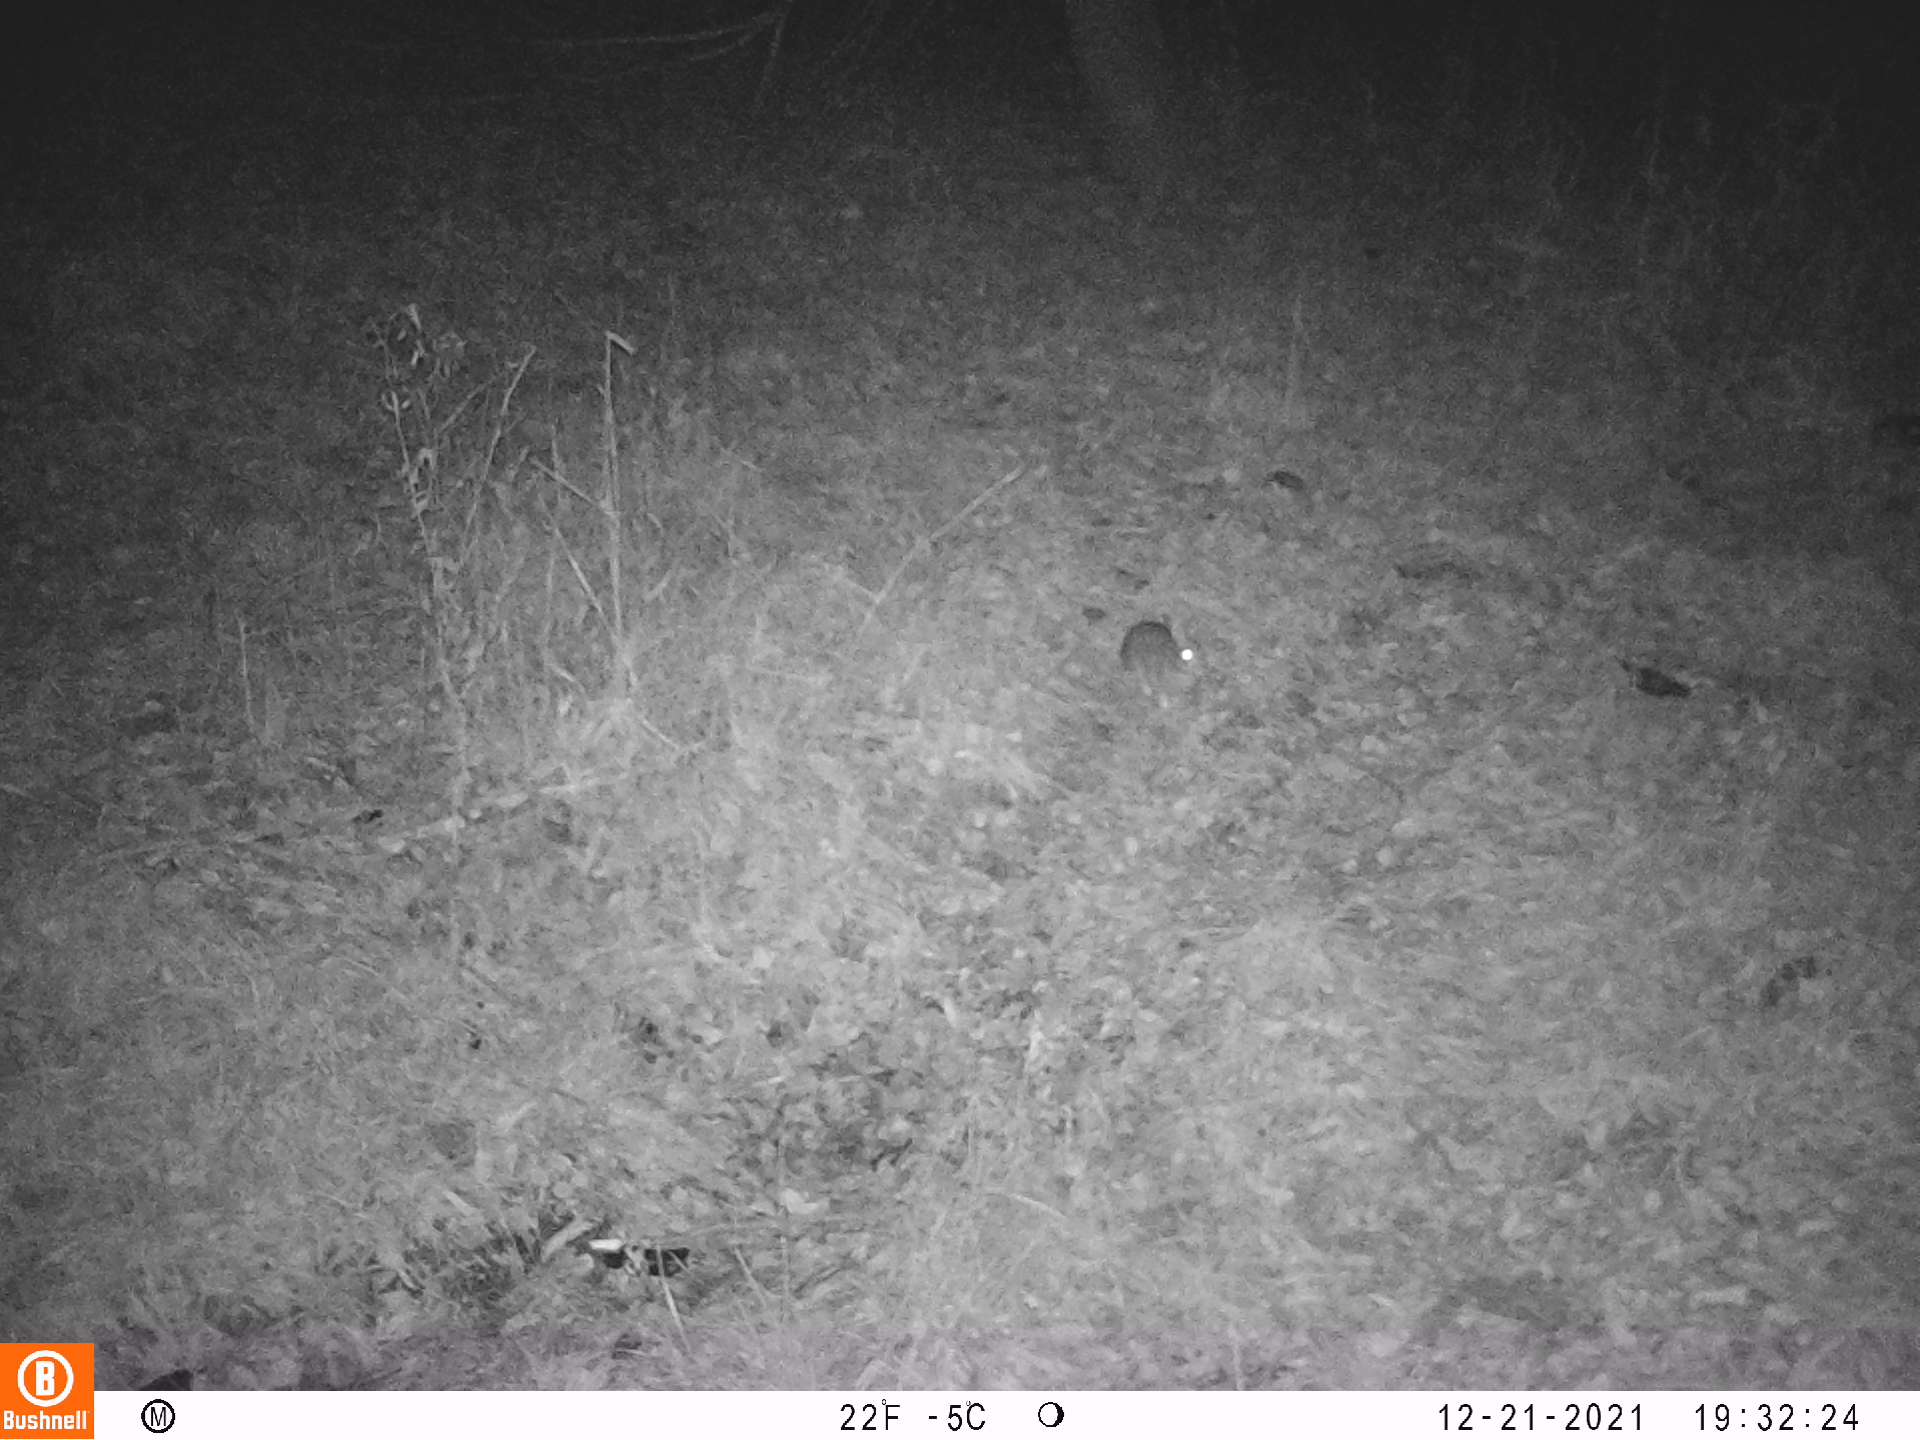Rabbit: (1116, 619, 1208, 709)
